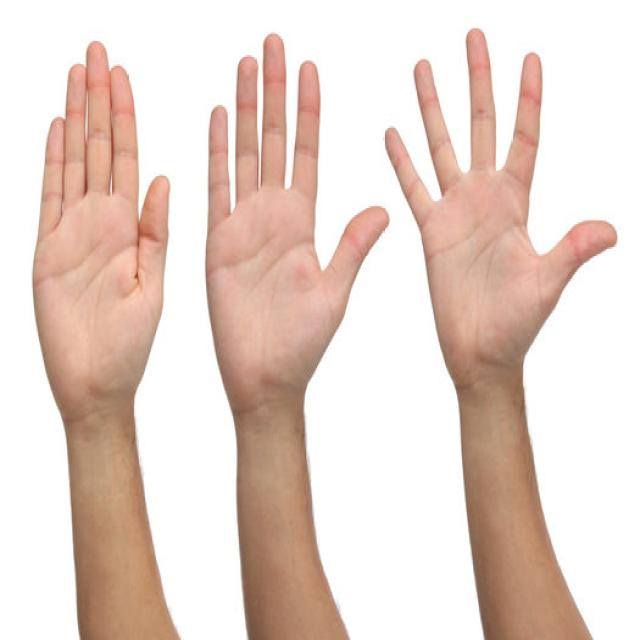hand palm open: (204, 33, 396, 399), (26, 38, 162, 394)
